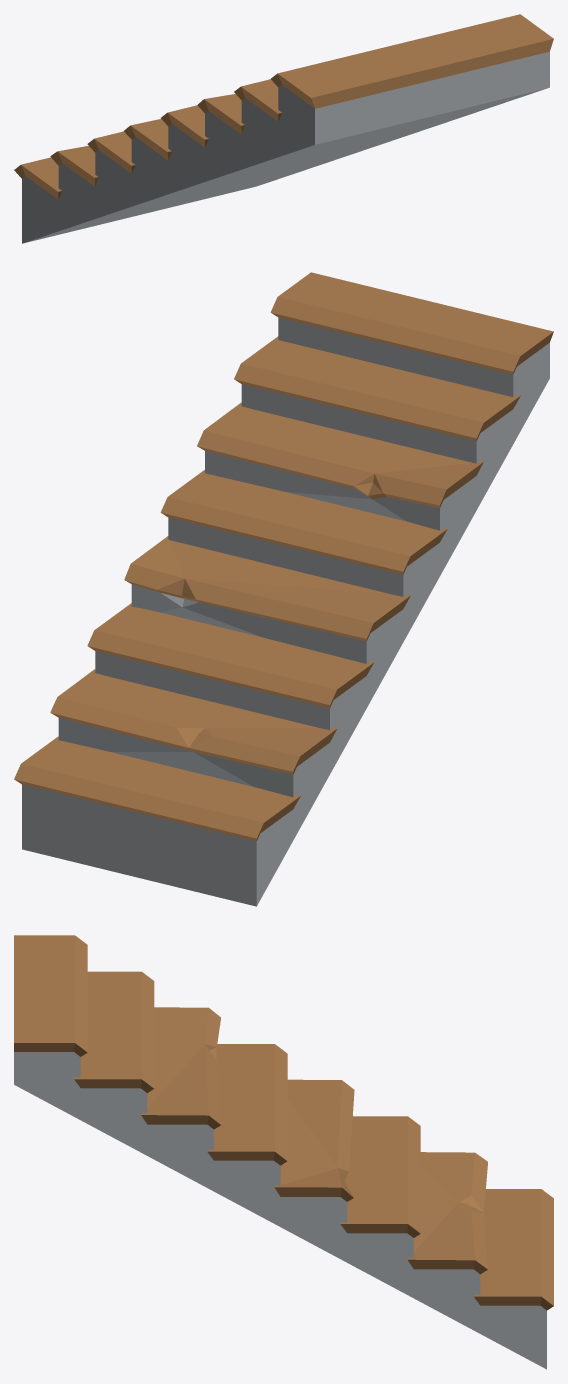
Rendered from Stairs.FBX.
3 renders of one model, top to bottom at view 1: azimuth 30°, elevation 25°; view 2: azimuth 150°, elevation 25°; view 3: azimuth 270°, elevation 25°, orthographic. The views are drawn at different scales.
Parts seen in each view (by area): view 1: Stairs_Wood; view 2: Stairs_Wood; view 3: Stairs_Wood.
Boxes of the visible parts, x1,y1,x2,y2 form: Stairs_Wood: (14, 14, 553, 243); Stairs_Wood: (14, 272, 553, 906); Stairs_Wood: (14, 935, 553, 1369).
Size of the model in its own units: 120 by 170 by 253.
